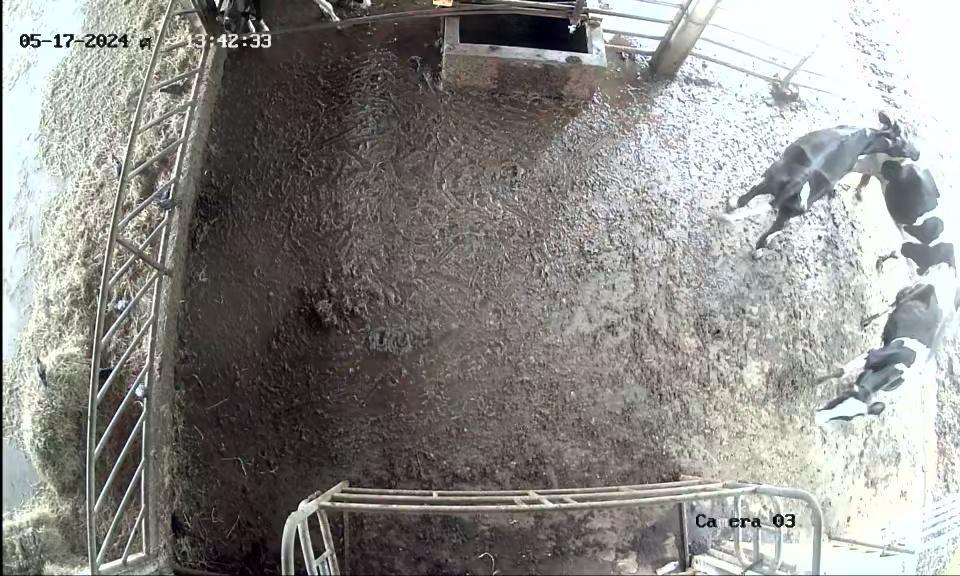propping: (855, 110, 924, 167)
stand: (807, 278, 960, 442), (858, 149, 960, 277)
